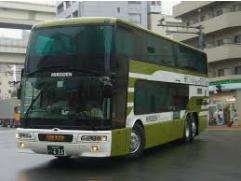bus: (18, 16, 215, 163)
